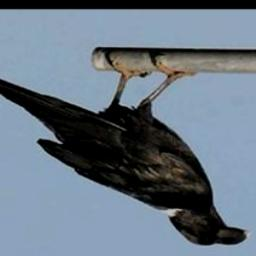Crow: (0, 51, 250, 250)
